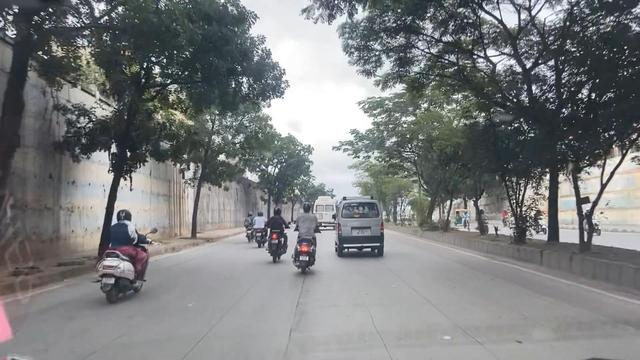LMV: (102, 198, 157, 294), (329, 190, 389, 259), (295, 194, 322, 285), (265, 195, 288, 263)
